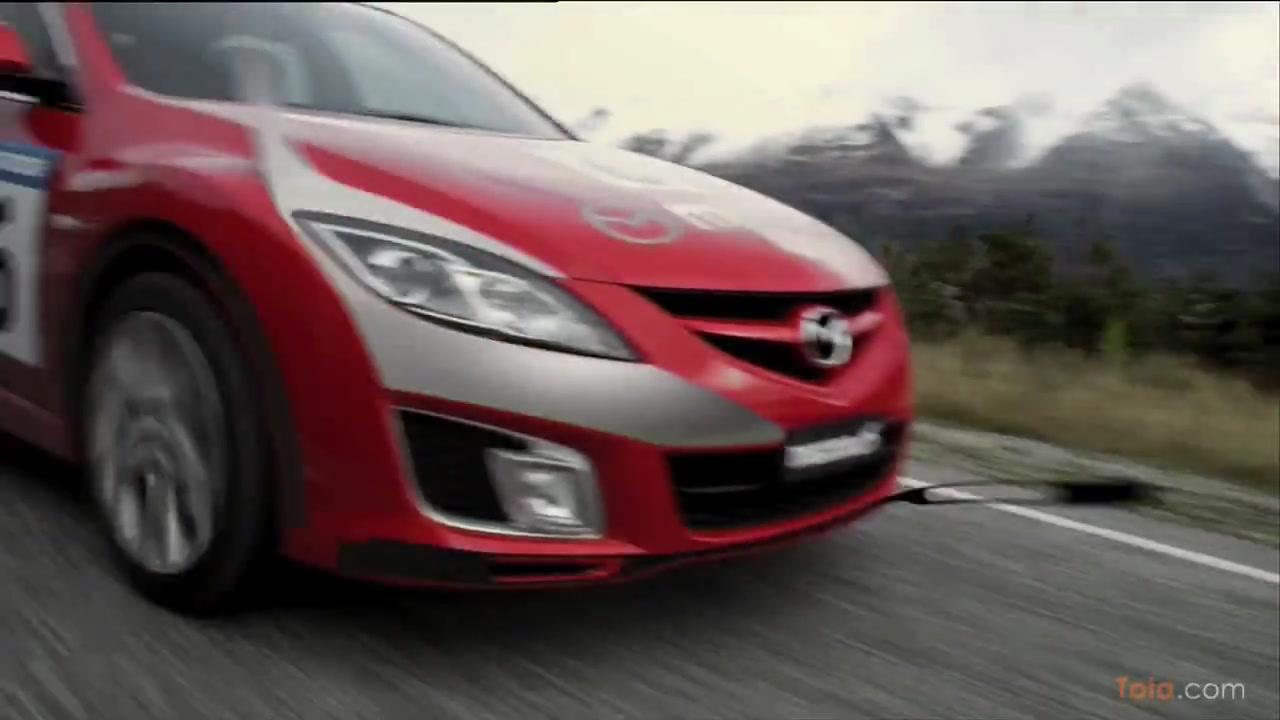car: (4, 1, 918, 618)
